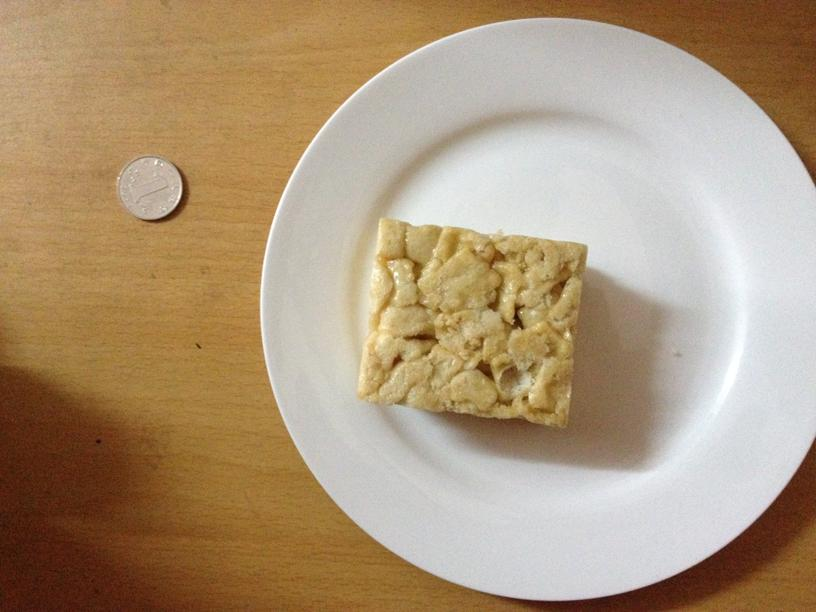coin: (114, 154, 185, 222)
sachima: (354, 212, 585, 429)
